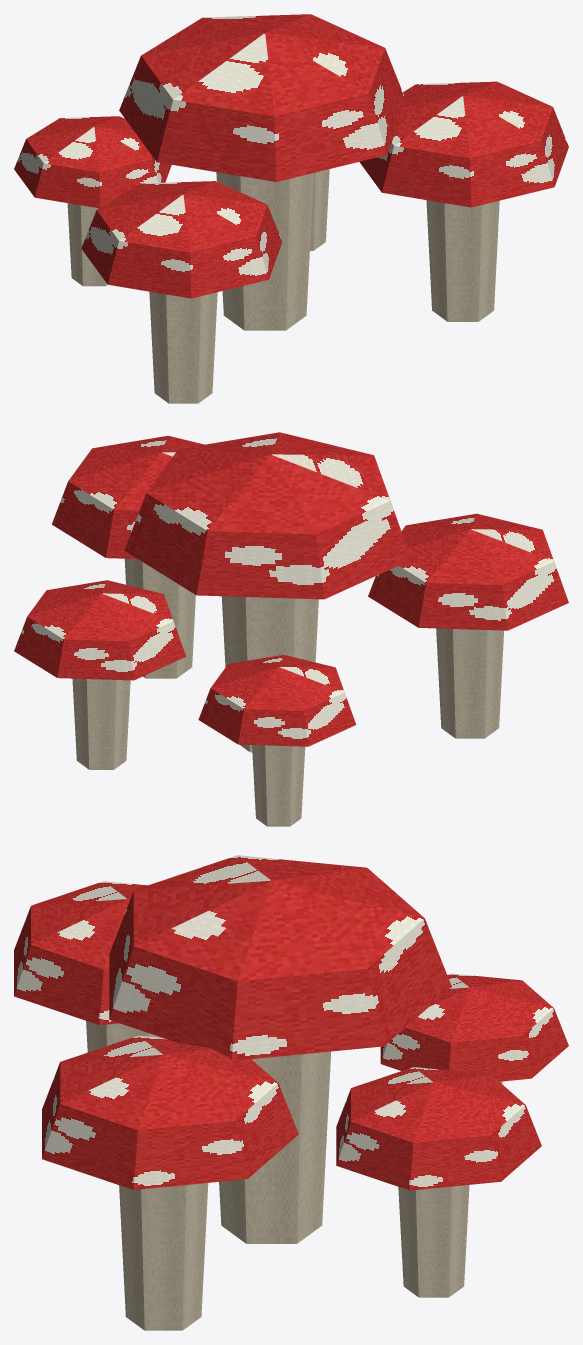
The model's file is grupo_de_cogumelos.glb.
The picture shows the model from 3 angles, top to bottom: view 1: azimuth 30°, elevation 25°; view 2: azimuth 150°, elevation 25°; view 3: azimuth 270°, elevation 25°; orthographic projection. The views are drawn at different scales.
Visible parts, largest first — view 1: grupo_de_cogumelos; view 2: grupo_de_cogumelos; view 3: grupo_de_cogumelos.
Boxes of the visible parts, left/top/right/bottom form: grupo_de_cogumelos: left=14, top=14, right=568, bottom=403; grupo_de_cogumelos: left=14, top=432, right=568, bottom=826; grupo_de_cogumelos: left=14, top=855, right=568, bottom=1330.
Bounding box in the file's own units: 0.7427 × 0.4224 × 0.6161.
1 material, 1 textured.
